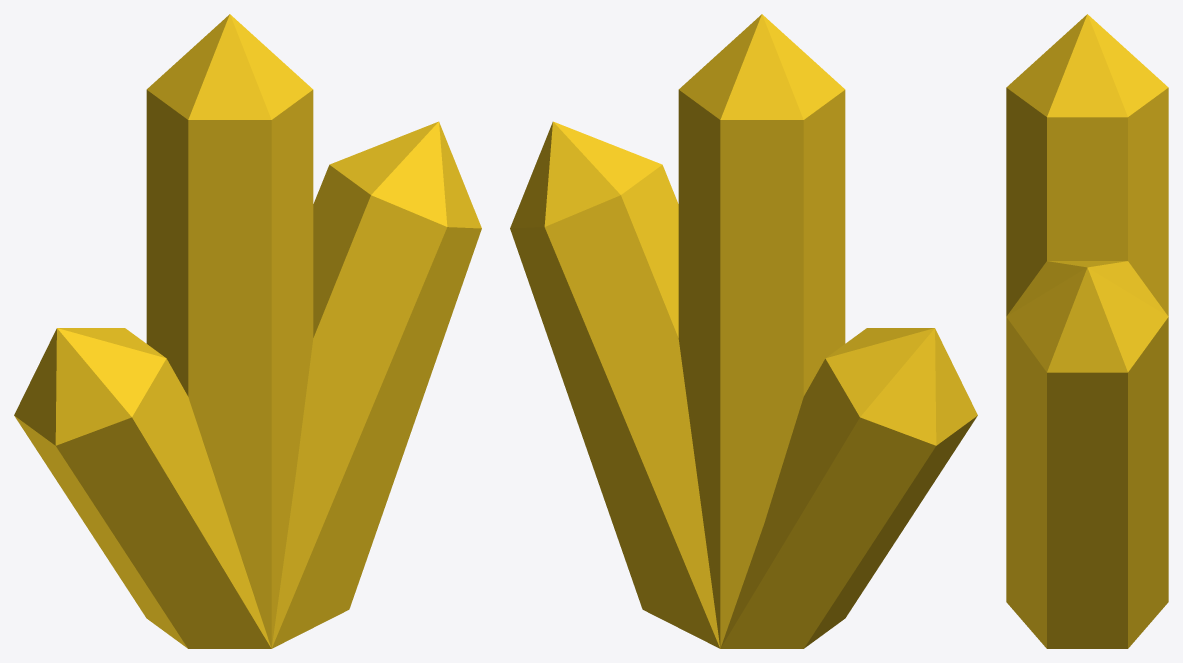
The model's file is yellow_cave_crystal.obj.
3 views of the same model, side by side, from view 1: azimuth 30°, elevation 25°; view 2: azimuth 150°, elevation 25°; view 3: azimuth 270°, elevation 25° (orthographic). The views are drawn at different scales.
Visible parts, largest first — view 1: main; view 2: main; view 3: main.
Part boxes in pixels (<box>): main: <box>14,14,481,648</box>; main: <box>510,14,977,648</box>; main: <box>1006,14,1168,648</box>.
Size of the model in its own units: 0.7381 by 1 by 0.25.
